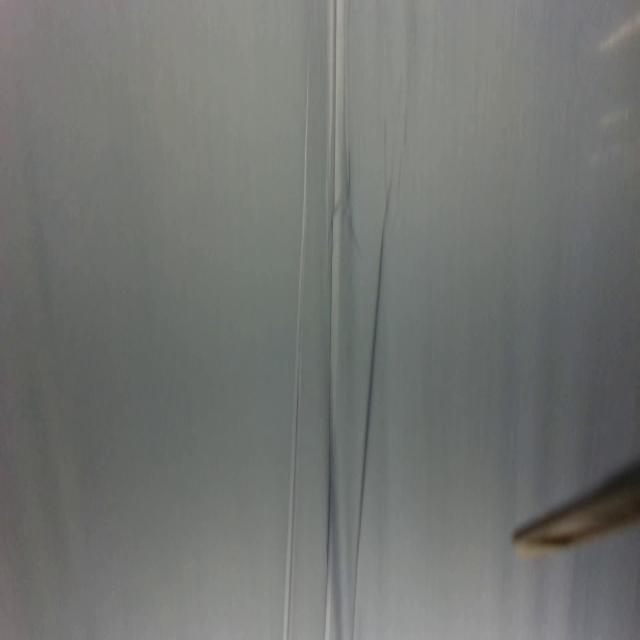crease: (281, 44, 313, 640), (350, 196, 389, 636), (322, 2, 348, 639)
